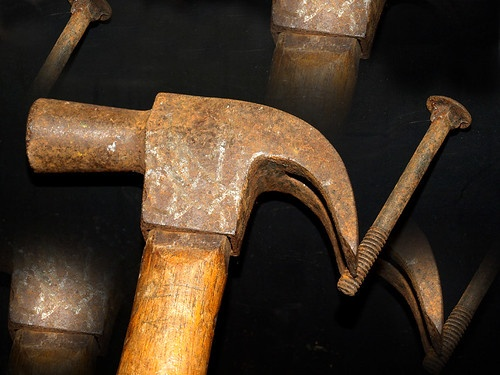hammer: (22, 90, 360, 375)
